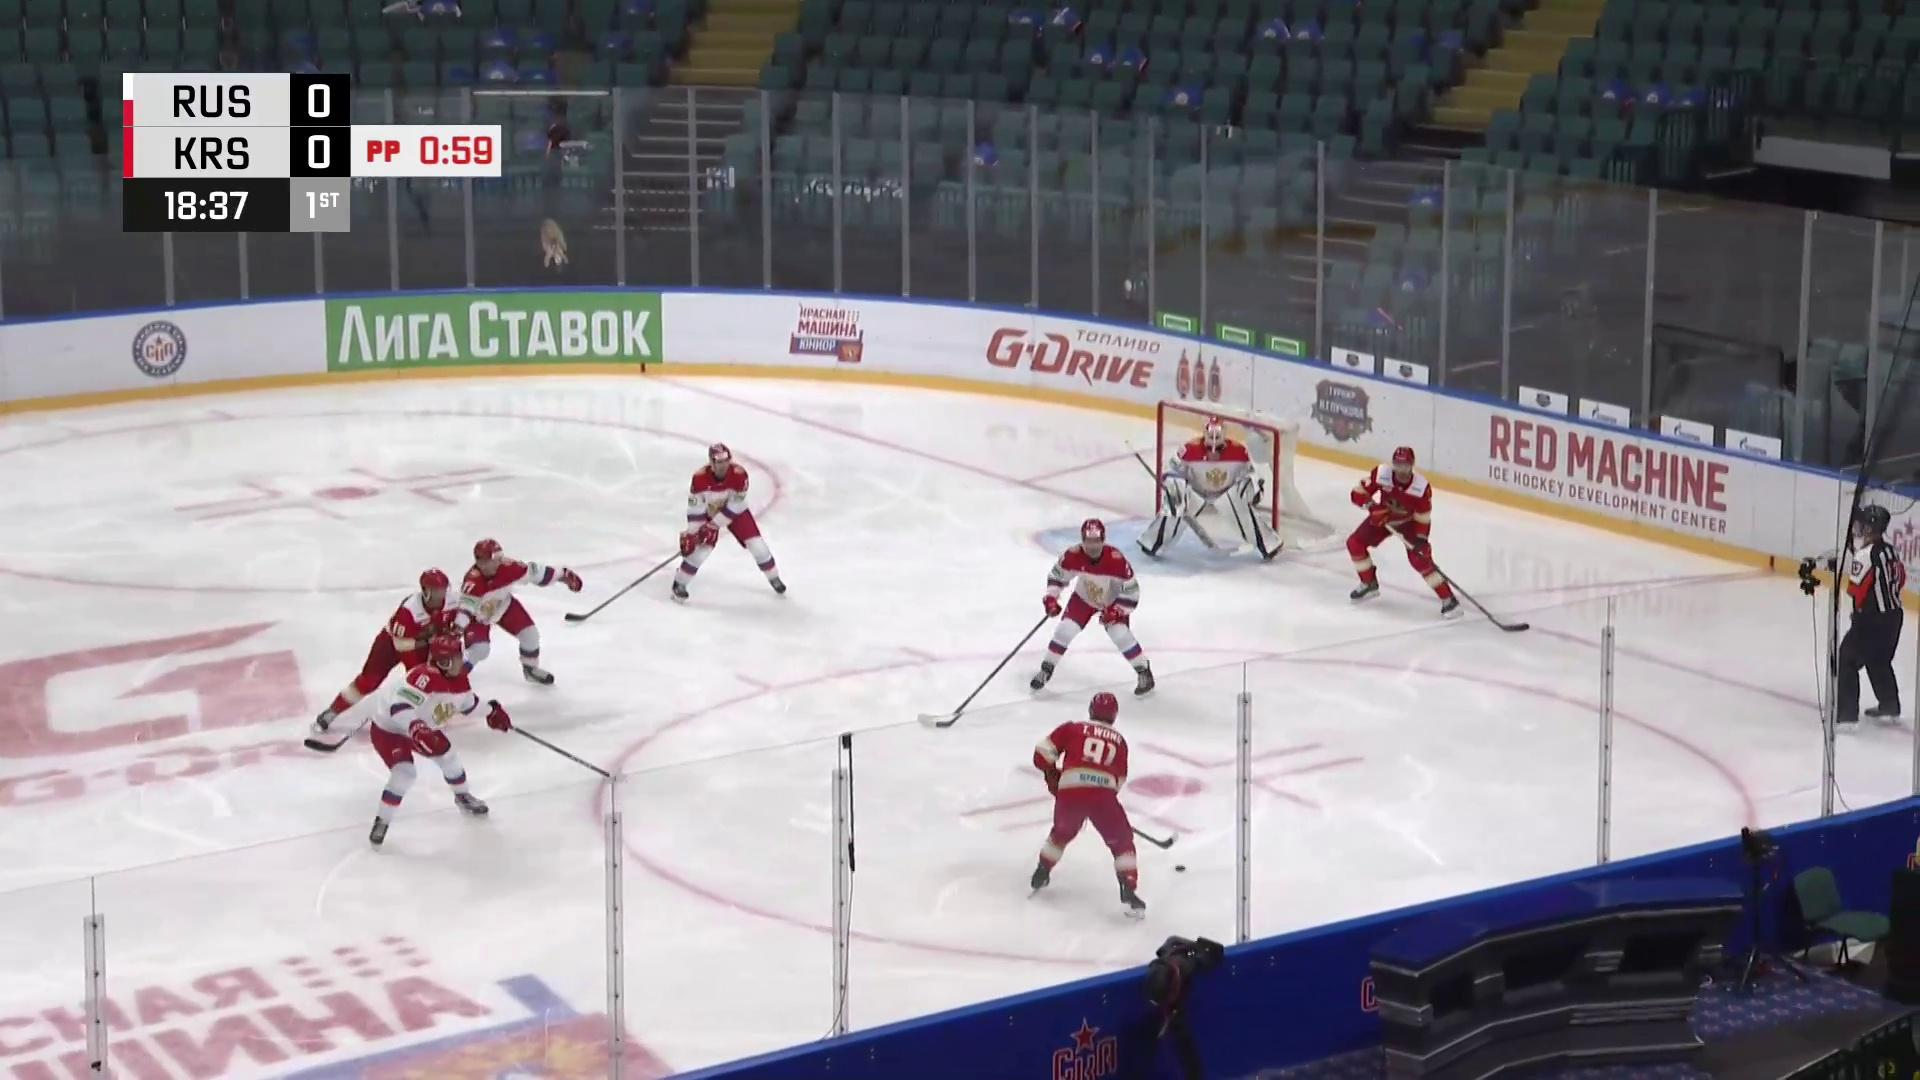ball: (1172, 864, 1188, 873)
